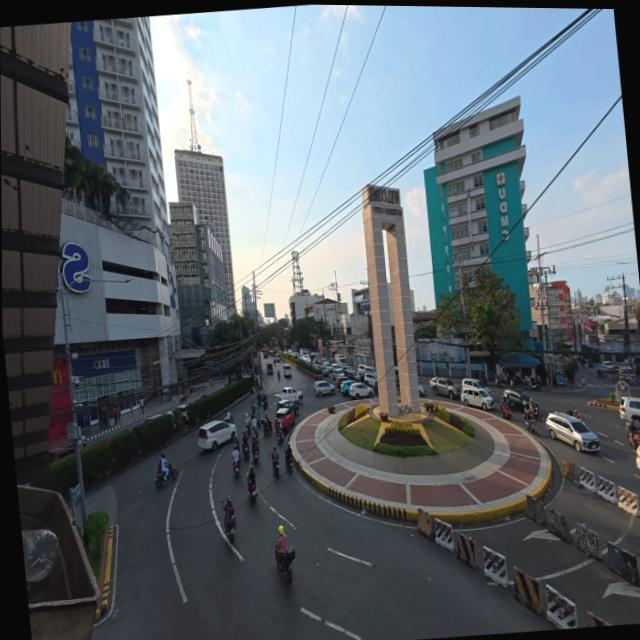car: (543, 407, 601, 453), (195, 418, 238, 453), (455, 381, 492, 414), (618, 396, 640, 433), (343, 379, 374, 400), (313, 379, 336, 398), (633, 437, 640, 486)
